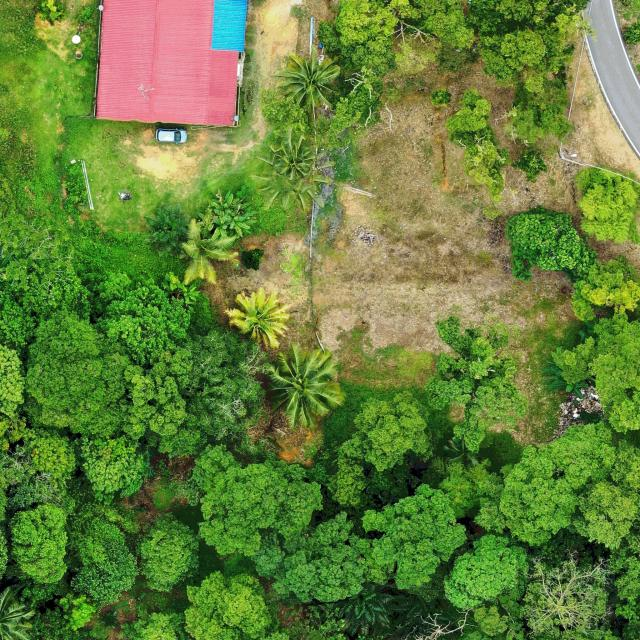0: (256, 341, 344, 433), (250, 120, 336, 214), (345, 388, 434, 472), (175, 217, 243, 286), (223, 288, 293, 349), (276, 51, 342, 110), (335, 583, 393, 635), (0, 584, 38, 640)
banana_tree2: (205, 186, 258, 242), (543, 361, 587, 398)
tree: (189, 444, 323, 558), (497, 419, 616, 546), (24, 310, 131, 442), (426, 315, 530, 450), (359, 480, 470, 591), (250, 509, 380, 601), (550, 312, 640, 430), (520, 552, 616, 640), (446, 87, 510, 204), (446, 532, 531, 610), (506, 203, 596, 276), (182, 571, 276, 640), (467, 0, 548, 78), (69, 518, 139, 606), (135, 512, 201, 593), (8, 502, 70, 588), (438, 460, 507, 535), (575, 165, 639, 244), (570, 482, 640, 551), (569, 253, 640, 321), (334, 0, 399, 74), (80, 434, 152, 499), (11, 426, 77, 492)
